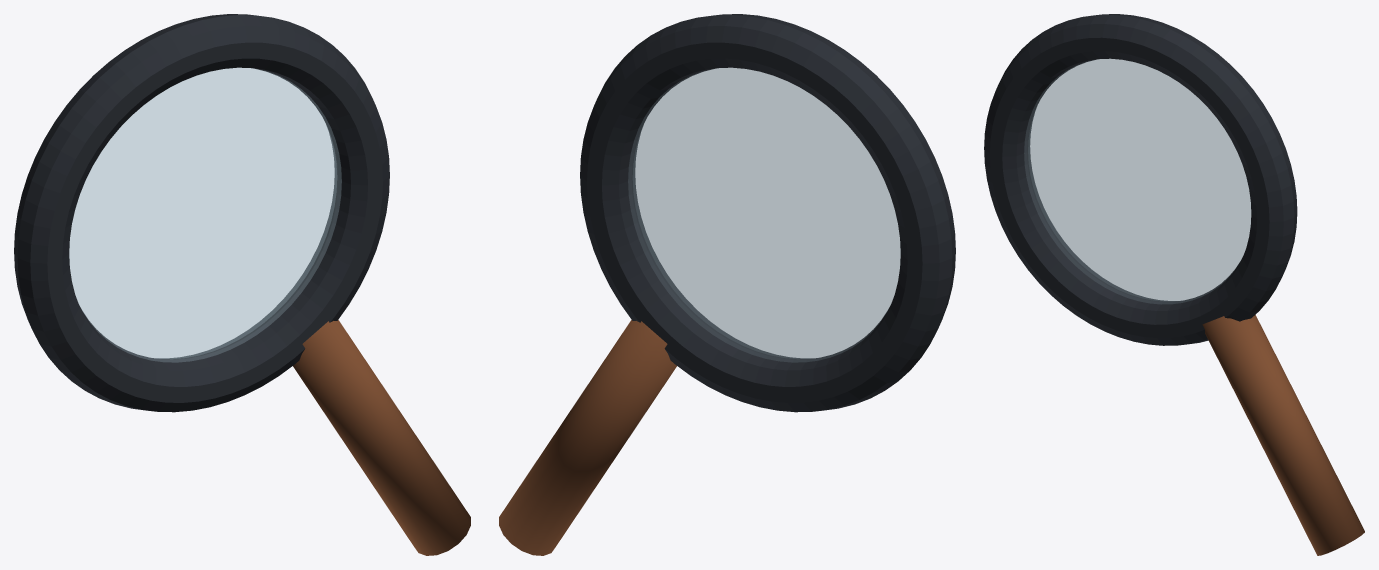
Rendered from lupa.glb.
The picture shows the model from 3 angles, left to right: view 1: azimuth 30°, elevation 25°; view 2: azimuth 150°, elevation 25°; view 3: azimuth 330°, elevation 25°; orthographic projection. The views are drawn at different scales.
Visible parts, largest first — view 1: Cylinder, Torus.010, Cylinder.001; view 2: Cylinder, Torus.010, Cylinder.001; view 3: Cylinder, Torus.010, Cylinder.001.
Boxes of the visible parts, <box> form: Cylinder: <box>69,67,341,362</box>; Torus.010: <box>14,14,389,412</box>; Cylinder.001: <box>293,320,470,555</box>; Cylinder: <box>628,67,900,362</box>; Torus.010: <box>580,14,955,412</box>; Cylinder.001: <box>499,320,676,555</box>; Cylinder: <box>1024,58,1251,304</box>; Torus.010: <box>984,14,1297,345</box>; Cylinder.001: <box>1202,315,1364,555</box>.
Bounding box in the file's own units: 1.12 × 1.4 × 0.14.
